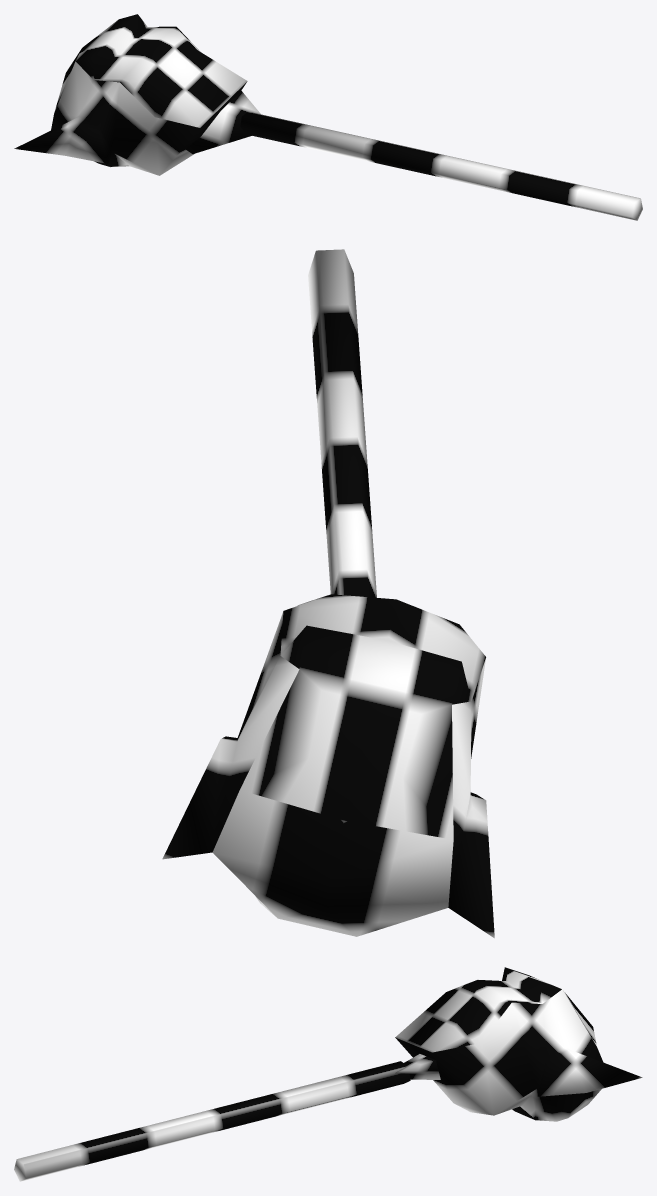
Rendered from initqu30.dae.
The picture shows the model from 3 angles, top to bottom: view 1: azimuth 30°, elevation 25°; view 2: azimuth 150°, elevation 25°; view 3: azimuth 270°, elevation 25°; orthographic projection. The views are drawn at different scales.
Parts seen in each view (by area): view 1: item; view 2: item; view 3: item.
Part boxes in pixels (x1,y1,x2,y2): item: [14, 14, 642, 220]; item: [162, 249, 494, 938]; item: [14, 967, 642, 1181].
Size of the model in its own units: 1.16 by 1.73 by 0.4401.
Materials: 1 (1 with a texture image).
